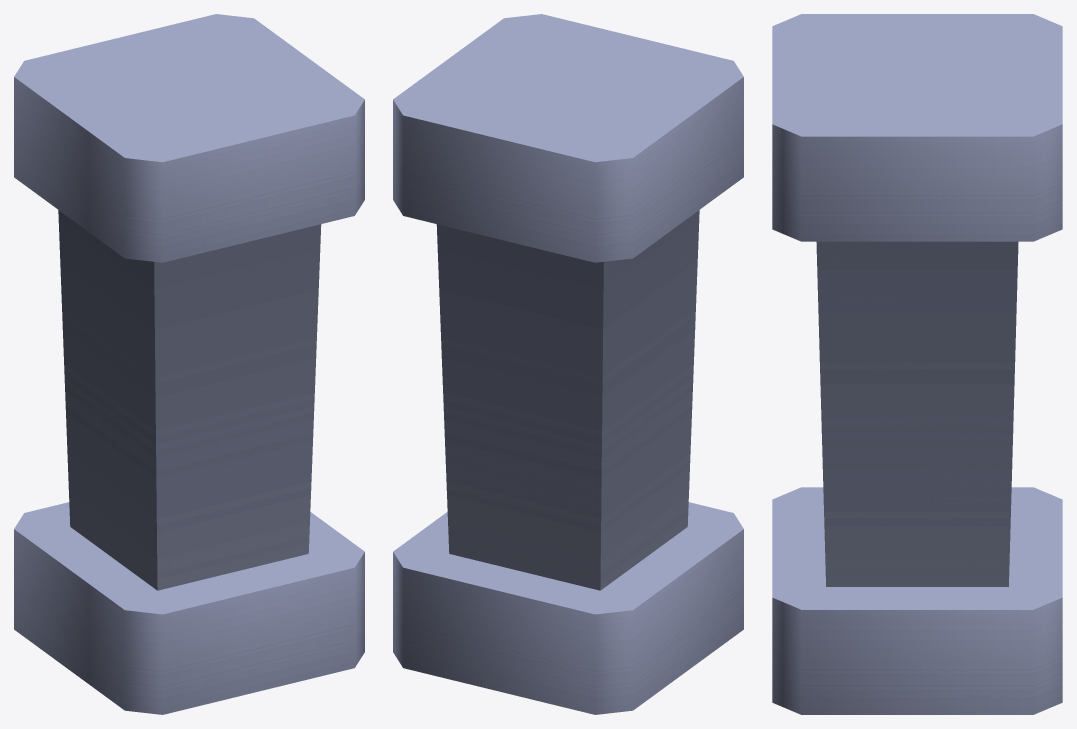
The model's file is column.glb.
The picture shows the model from 3 angles, left to right: view 1: azimuth 30°, elevation 25°; view 2: azimuth 150°, elevation 25°; view 3: azimuth 270°, elevation 25°; orthographic projection. The views are drawn at different scales.
Parts seen in each view (by area): view 1: column; view 2: column; view 3: column.
Boxes of the visible parts, x1=… form: column: x1=14, y1=14, x2=364, y2=714; column: x1=393, y1=14, x2=743, y2=714; column: x1=772, y1=14, x2=1062, y2=714.
Bounding box in the file's own units: 0.5 × 1.1 × 0.5.
Materials: 1 (1 with a texture image).
